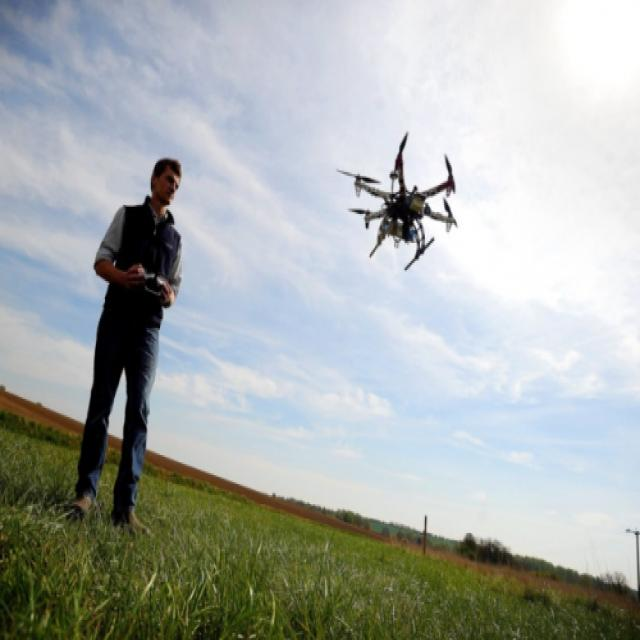drone: (337, 128, 458, 272)
